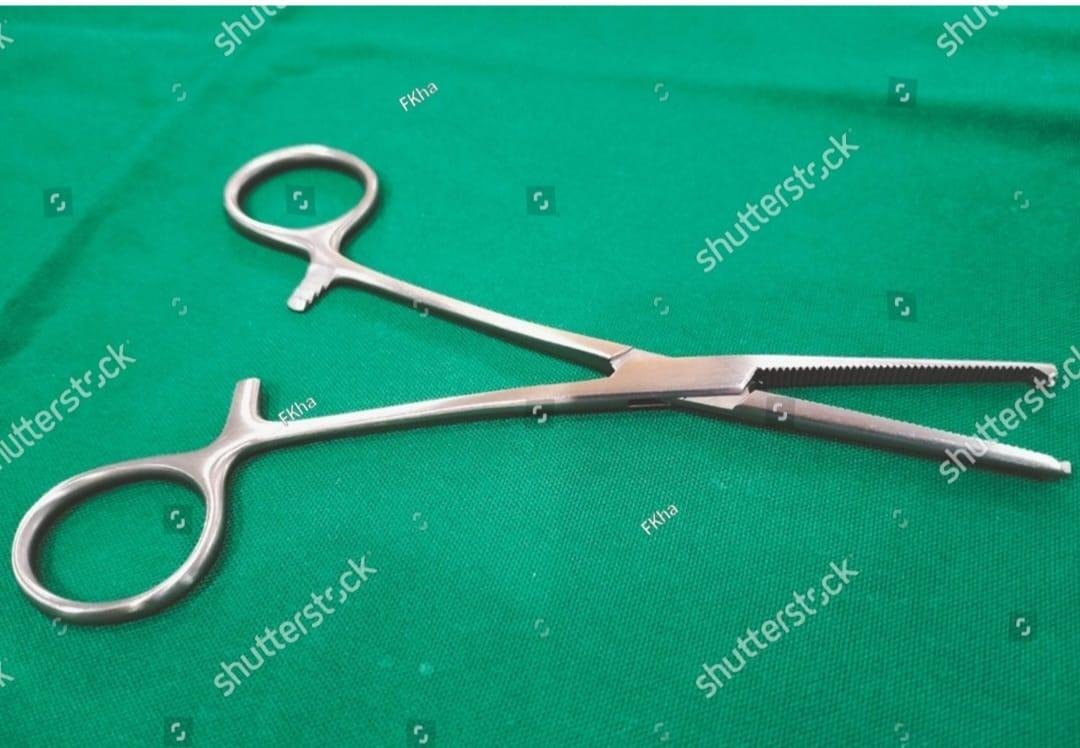Kocher Forceps: (7, 141, 1080, 631)
